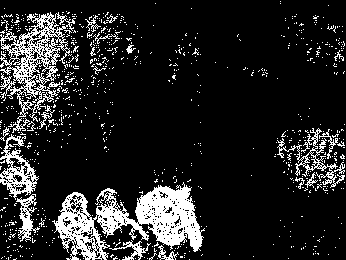person: (140, 173, 205, 260), (3, 137, 42, 243), (98, 186, 141, 258), (62, 190, 98, 260)
